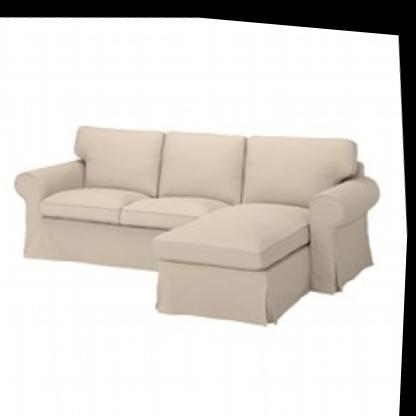Sofa: (1, 83, 397, 361)
